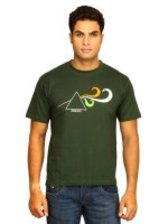clothoes: (23, 57, 144, 190)
